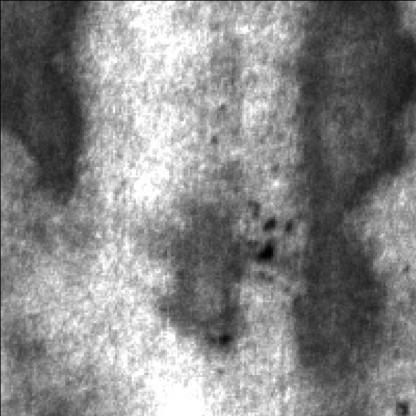inclusion: (254, 204, 291, 260)
patches: (289, 0, 414, 372), (0, 0, 85, 202), (154, 200, 239, 343)
